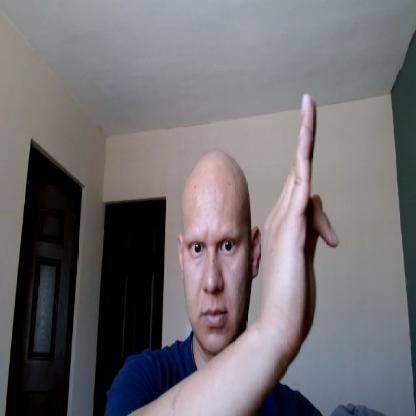F: (259, 90, 340, 359)
